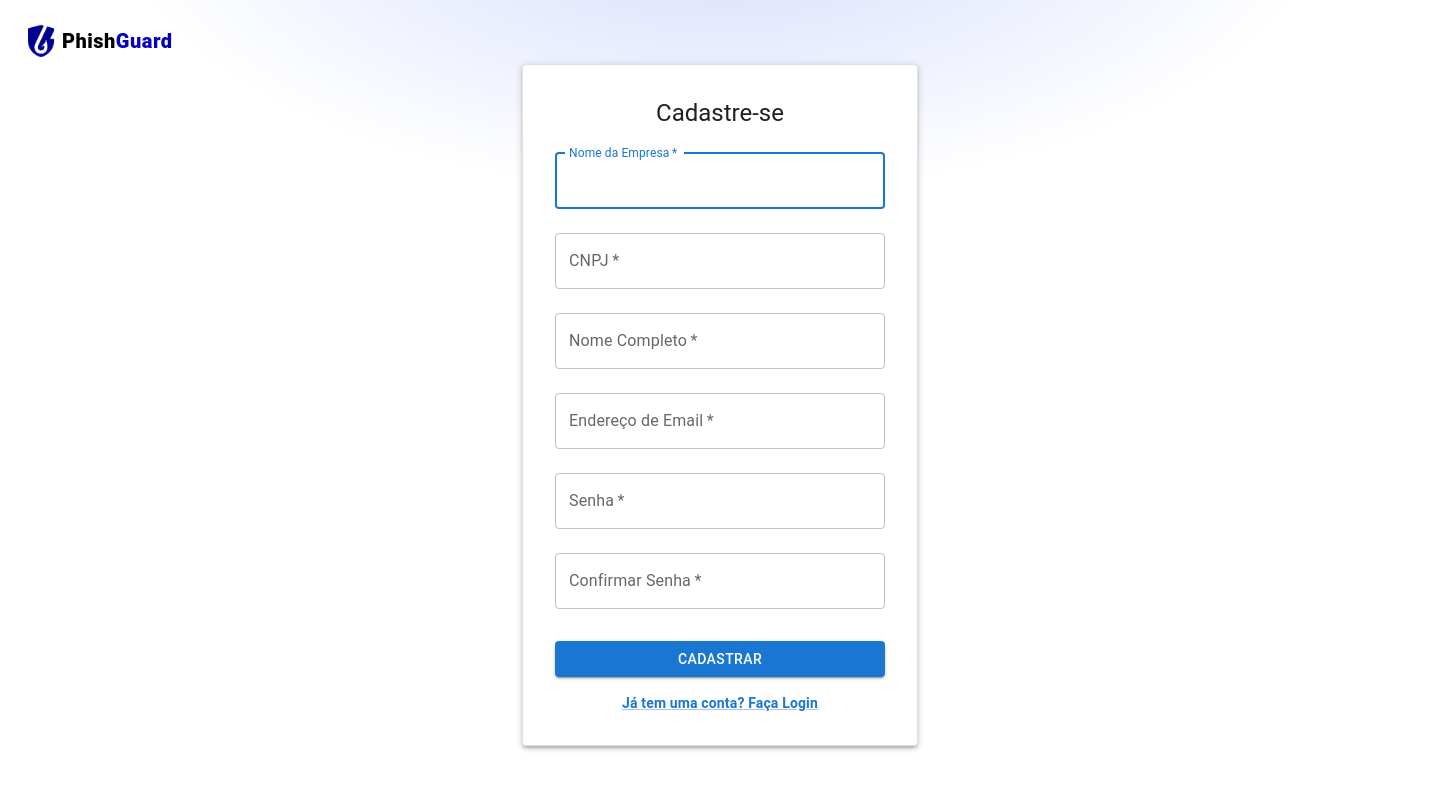
Test: Register — falhas da API › distingue falha de rede de erro de validação
Type "Empresa Teste" into the field labelled "Nome da Empresa *".
click(720, 181); type("Empresa Teste")  # box [555, 153, 885, 209]
Type "12345678000199" into the field labelled "CNPJ *".
click(720, 261); type("12345678000199")  # box [555, 233, 885, 289]
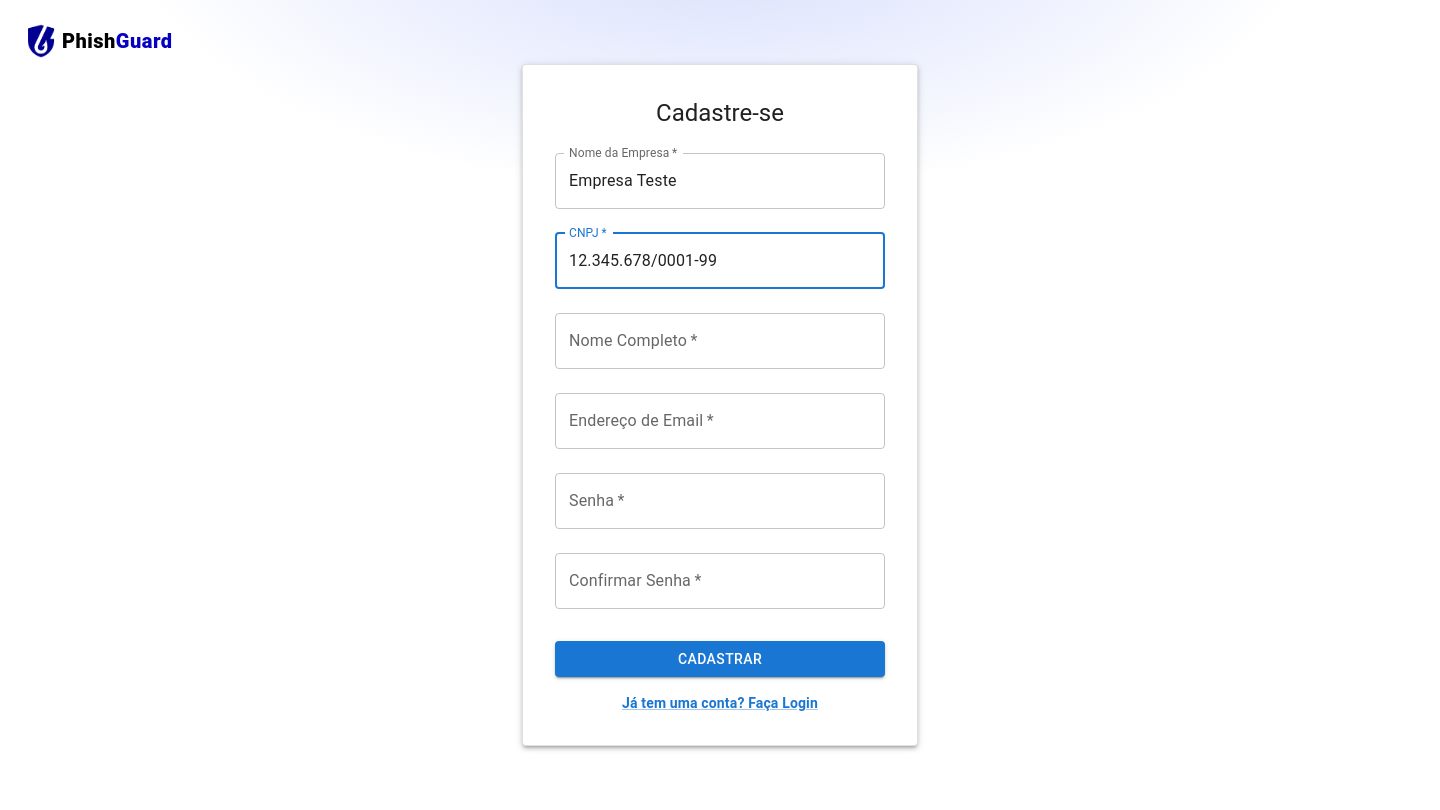
Type "Fulano de Tal" into the field labelled "Nome Completo *".
click(720, 341); type("Fulano de Tal")  # box [555, 313, 885, 369]
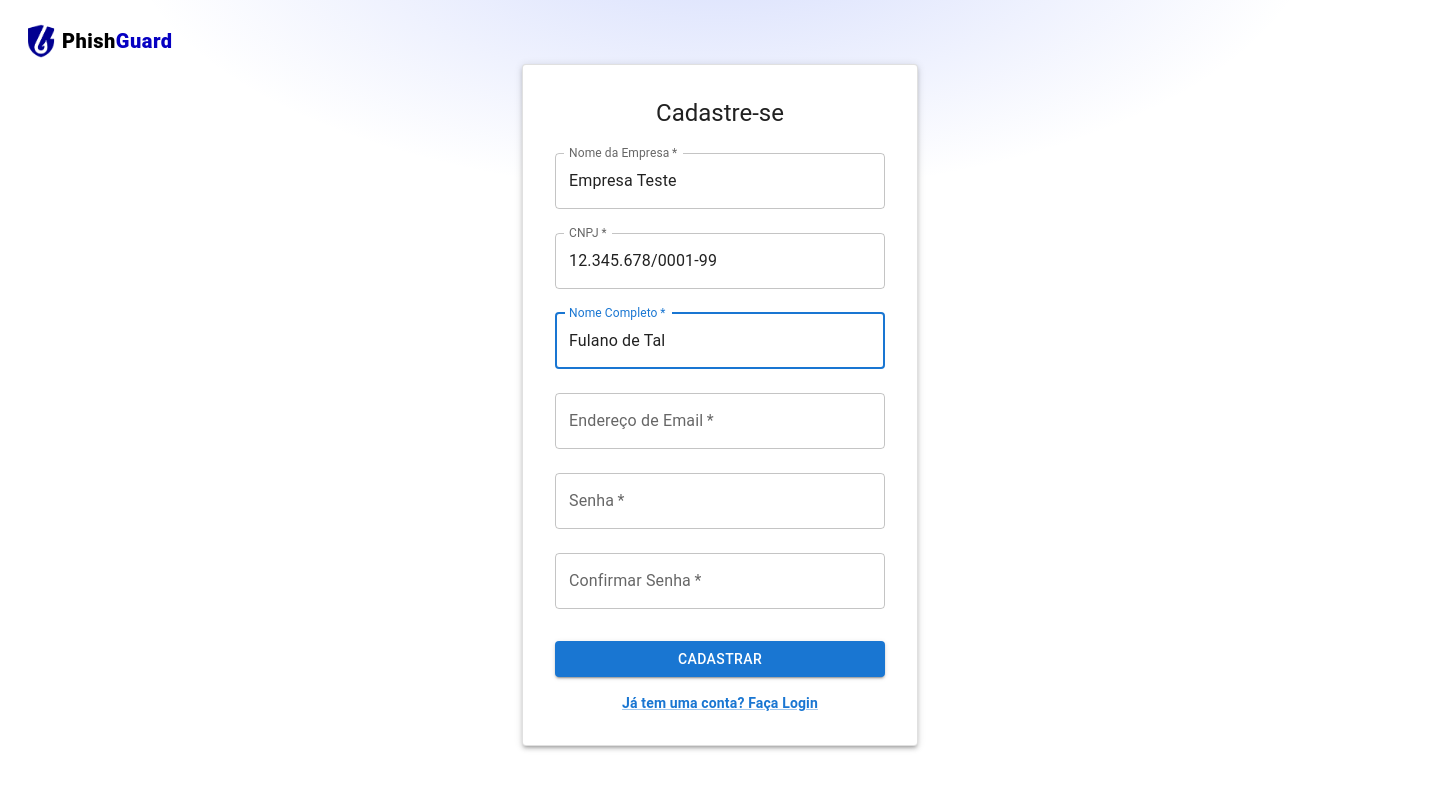
Type "fulano@teste.com" into the field labelled "Endereço de Email *".
click(720, 421); type("fulano@teste.com")  # box [555, 393, 885, 449]
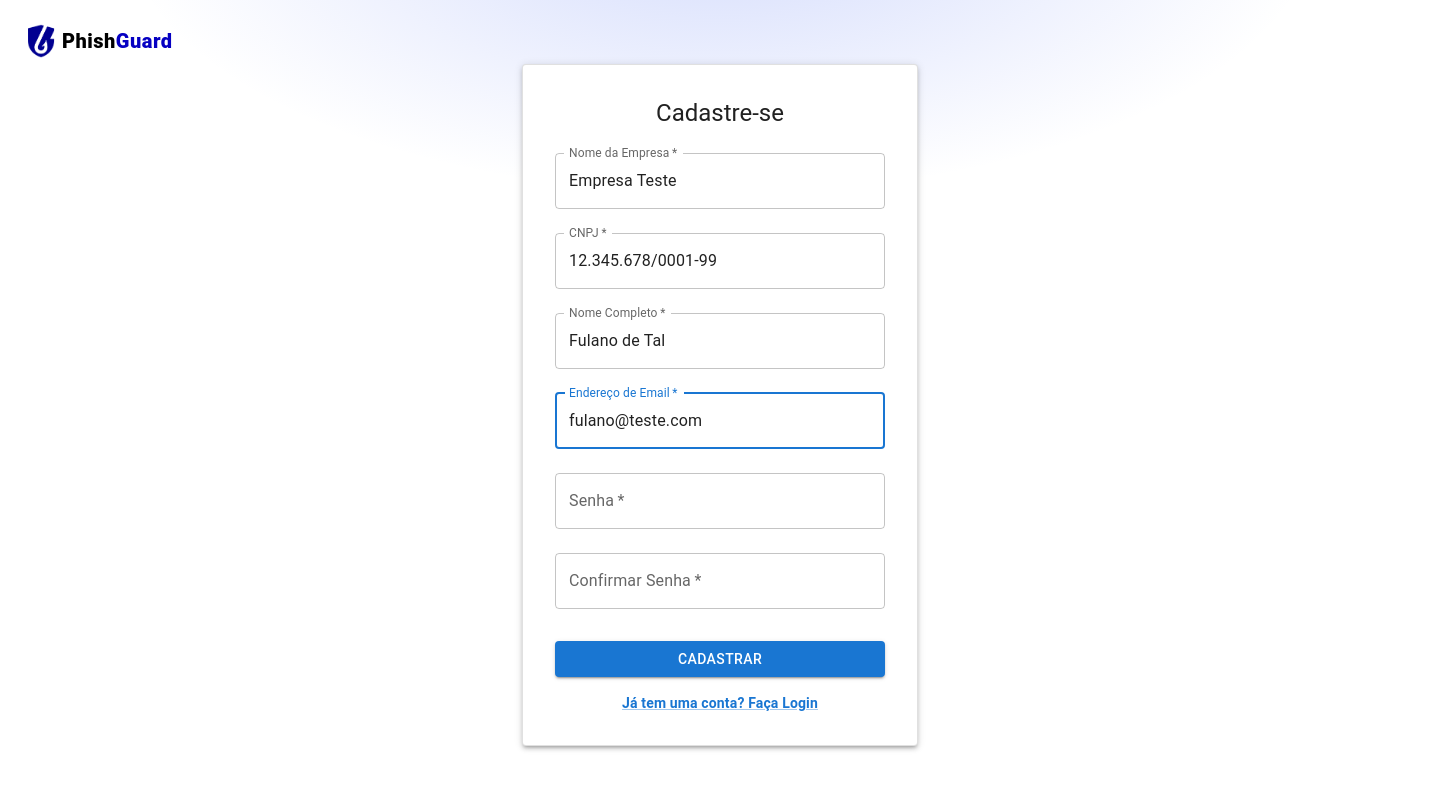
Type "senha123" into the password field labelled "Senha *".
click(720, 501); type("senha123")  # box [555, 473, 885, 529]
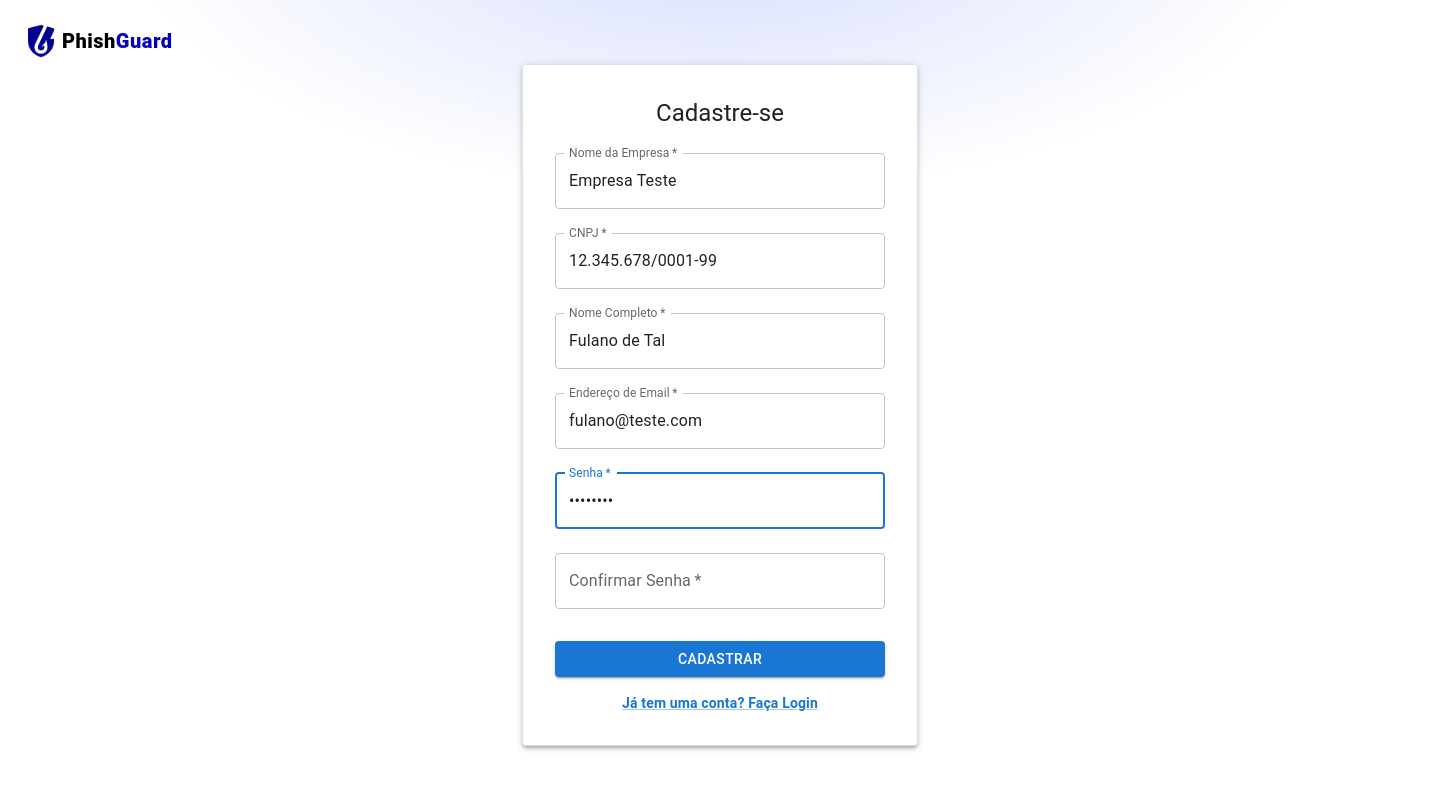
Type "senha123" into the password field labelled "Confirmar Senha *".
click(720, 581); type("senha123")  # box [555, 553, 885, 609]
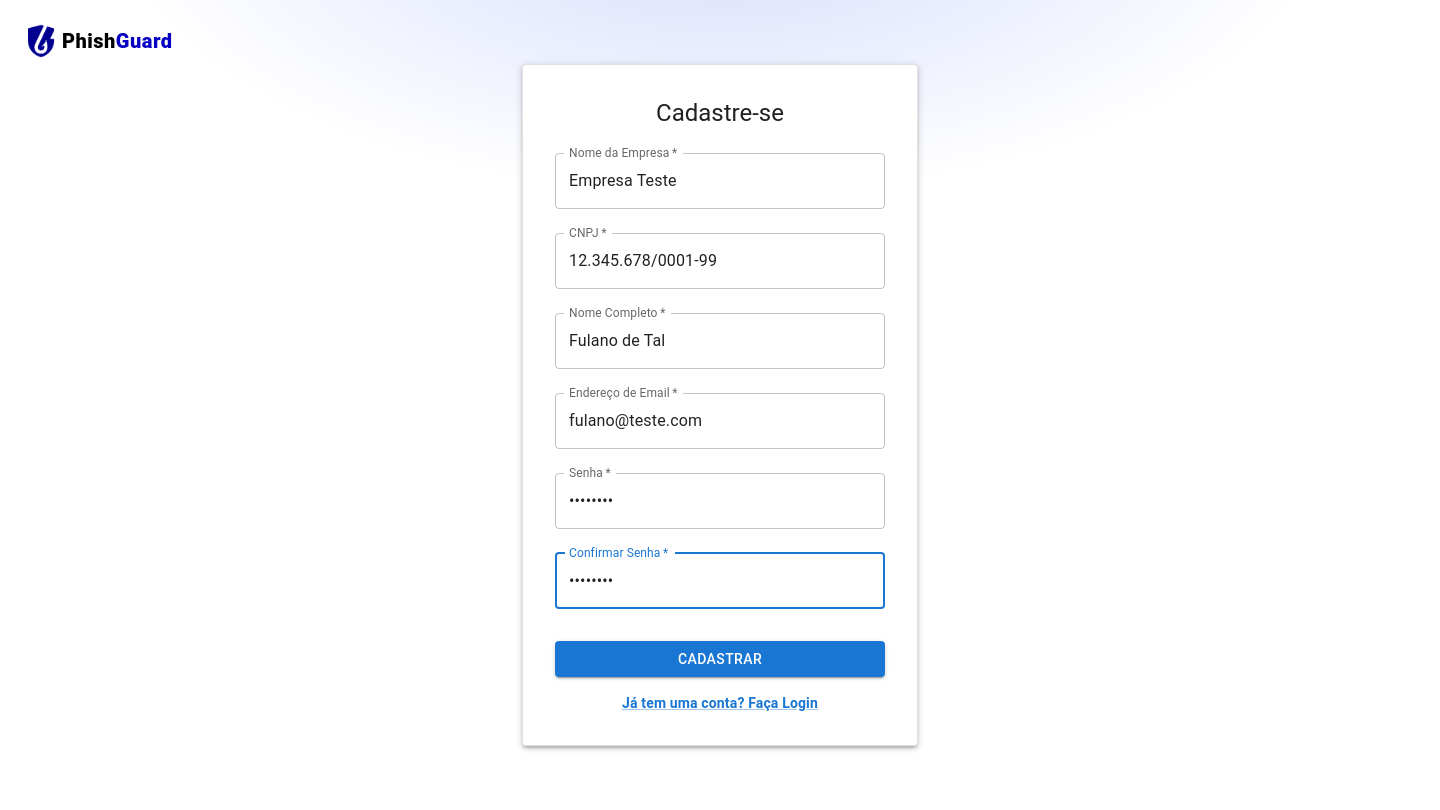
Click the button "CADASTRAR".
click(720, 659)  # box [555, 641, 885, 677]
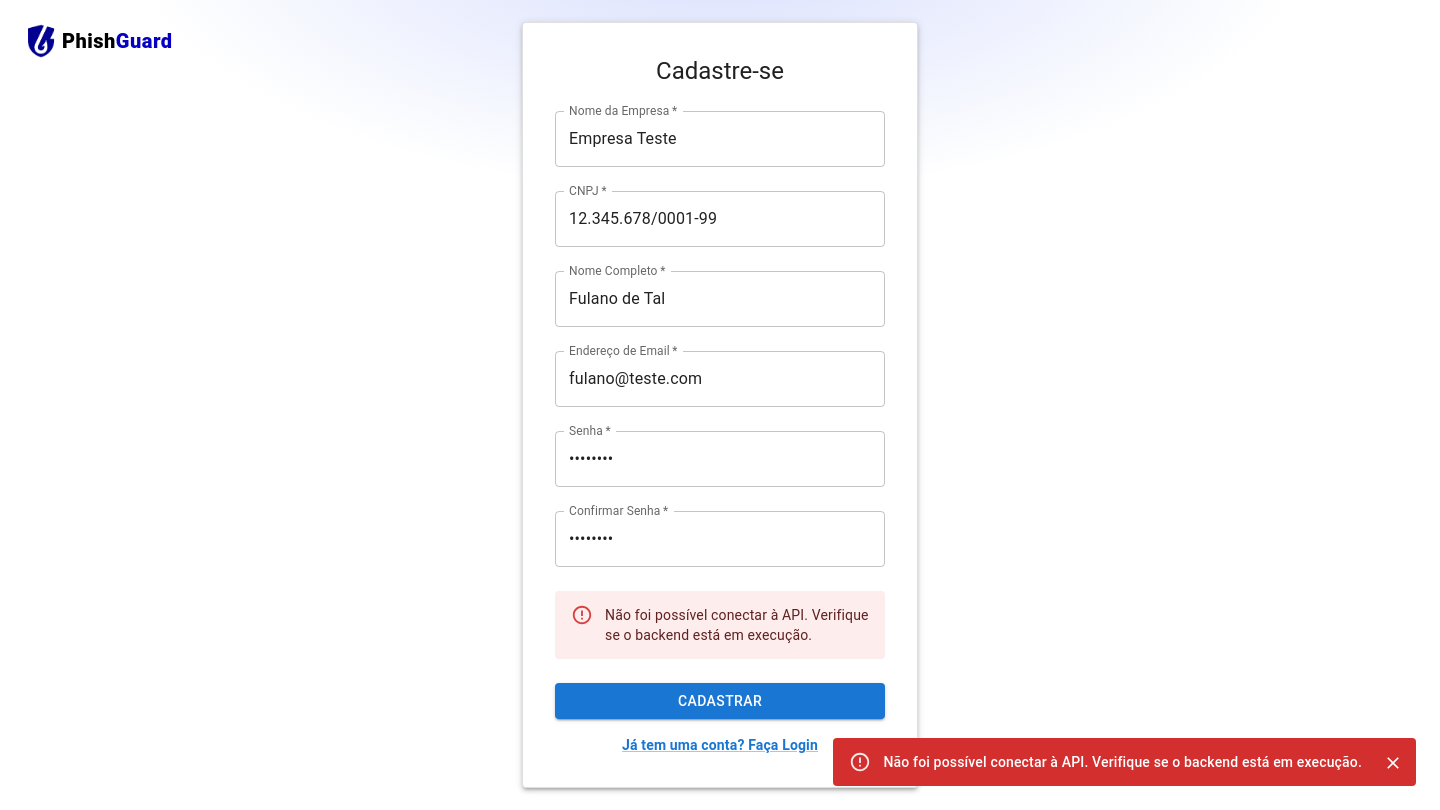
Expected: the text "Não foi possível conectar à API" below "Confirmar Senha" is shown, [605, 607, 869, 643]
